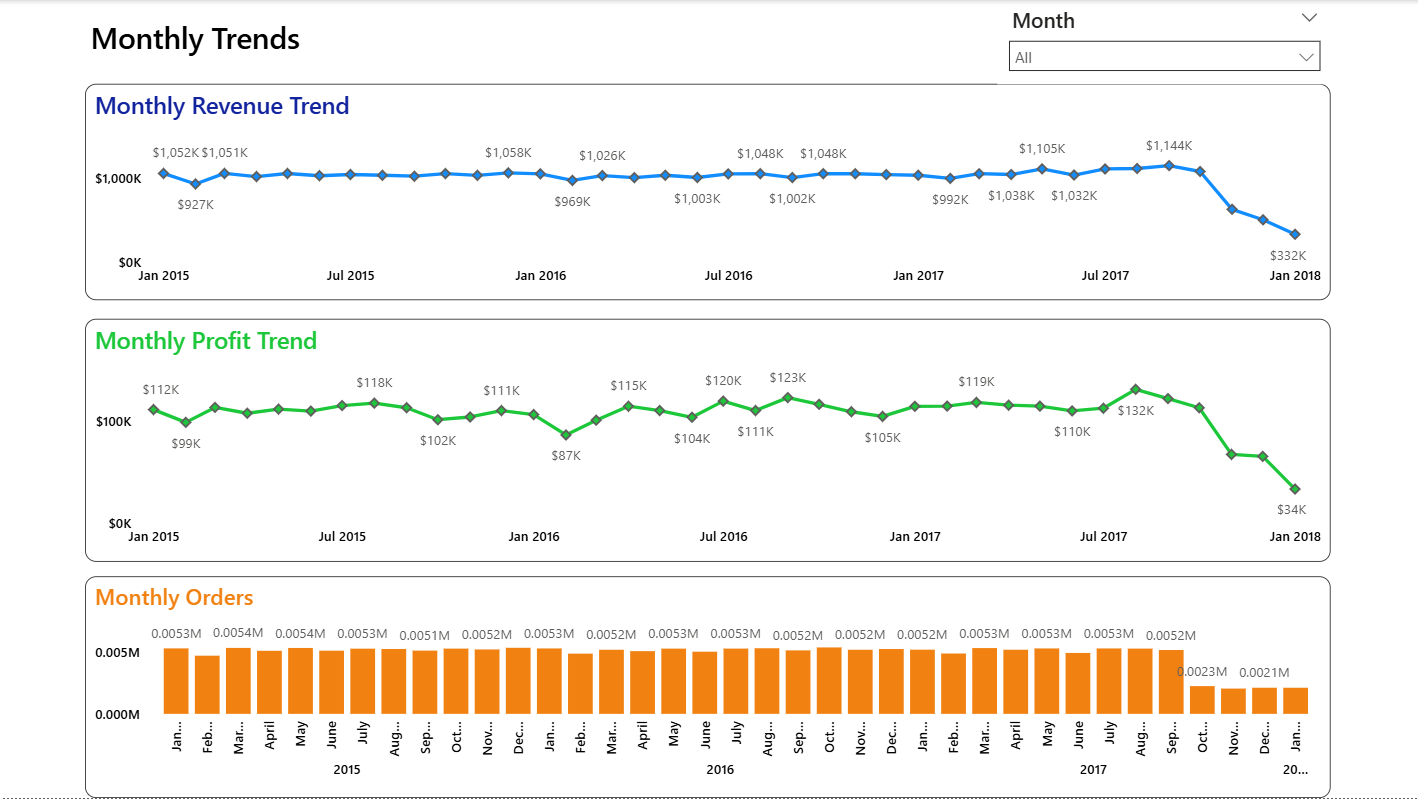

The dashboard page shown, as its layout file describes it:
{"tool":"powerbi","page":{"name":"Monthly Trends","canvas":[1280,720],"ordinal":1},"visuals":[{"type":"lineChart","title":"Monthly Revenue Trend","fields":{"Category":["public orders.month"],"Y":["public orders.Total Sales"]},"box":[77.1,75.9,1123.3,195.3],"z":0},{"type":"lineChart","title":"Monthly Profit Trend","fields":{"Category":["public orders.month"],"Y":["public orders.Total Profit"]},"box":[77.1,287.4,1123.3,218.9],"z":1000},{"type":"columnChart","title":"Monthly Orders","fields":{"Y":["CountNonNull(public orders.order_id)"],"Category":["public orders.month.Variation.Date Hierarchy.Year","public orders.month.Variation.Date Hierarchy.Month"]},"box":[77.1,520,1123.3,200.3],"z":2000},{"type":"textbox","title":"Monthly Trends","box":[77.1,16.2,835.9,44.8],"z":3000},{"type":"slicer","fields":{"Values":["public orders.month"]},"box":[899.4,0,301,75.9],"z":4000}]}

Visuals, with their boxes in screenshot pixels (x1, y1, x2, y2), scaled from the page's 1280x720 canvas onto the 1418x802 screenshot:
"Monthly Revenue Trend" lineChart: select_region(85, 85, 1330, 302)
"Monthly Profit Trend" lineChart: select_region(85, 320, 1330, 564)
"Monthly Orders" columnChart: select_region(85, 579, 1330, 801)
"Monthly Trends" textbox: select_region(85, 18, 1011, 68)
slicer - public orders.month: select_region(996, 0, 1330, 85)
